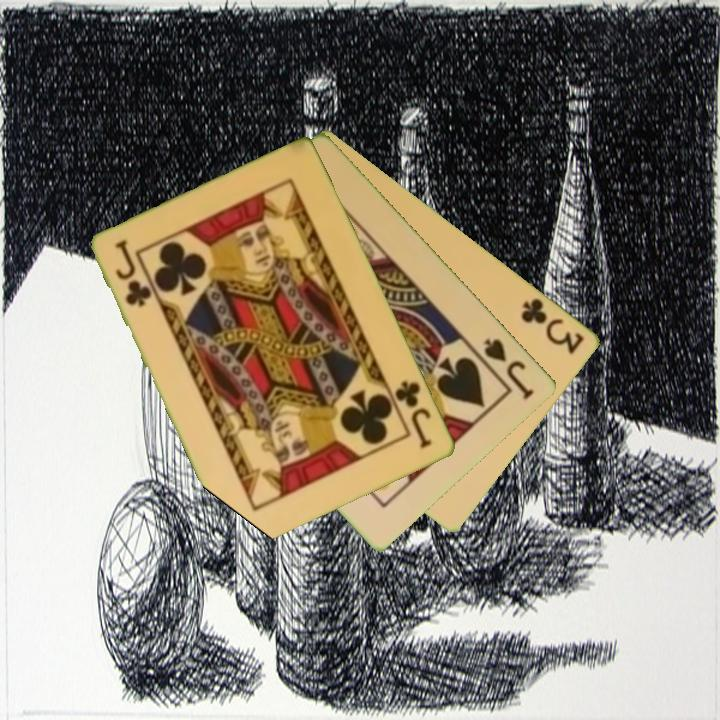3c: (518, 294, 588, 357)
Jc: (392, 377, 436, 452), (112, 236, 155, 310)
Js: (480, 334, 538, 403)
